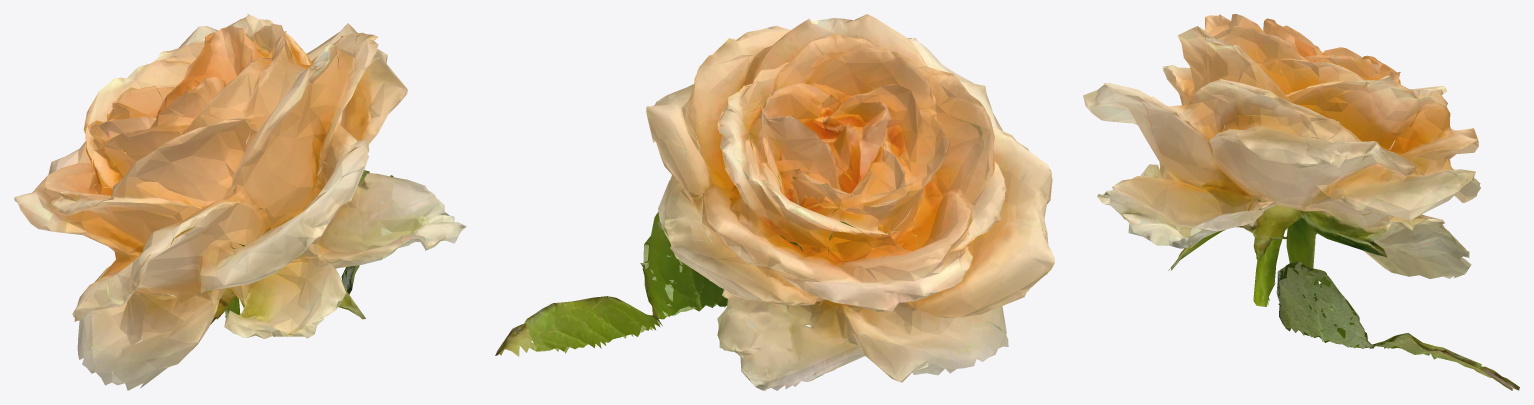
File: rose-apricot.glb
3 renders of one model, left to right at view 1: azimuth 30°, elevation 25°; view 2: azimuth 150°, elevation 25°; view 3: azimuth 270°, elevation 25°, orthographic. The views are drawn at different scales.
Visible parts, largest first — view 1: rose-apricot; view 2: rose-apricot; view 3: rose-apricot.
Boxes of the visible parts, x1,y1,x2,y2 form: rose-apricot: [14, 14, 466, 390]; rose-apricot: [495, 14, 1054, 390]; rose-apricot: [1083, 14, 1519, 390].
Bounding box in the file's own units: 0.4448 × 0.2856 × 0.418.
1 material, 1 textured.
